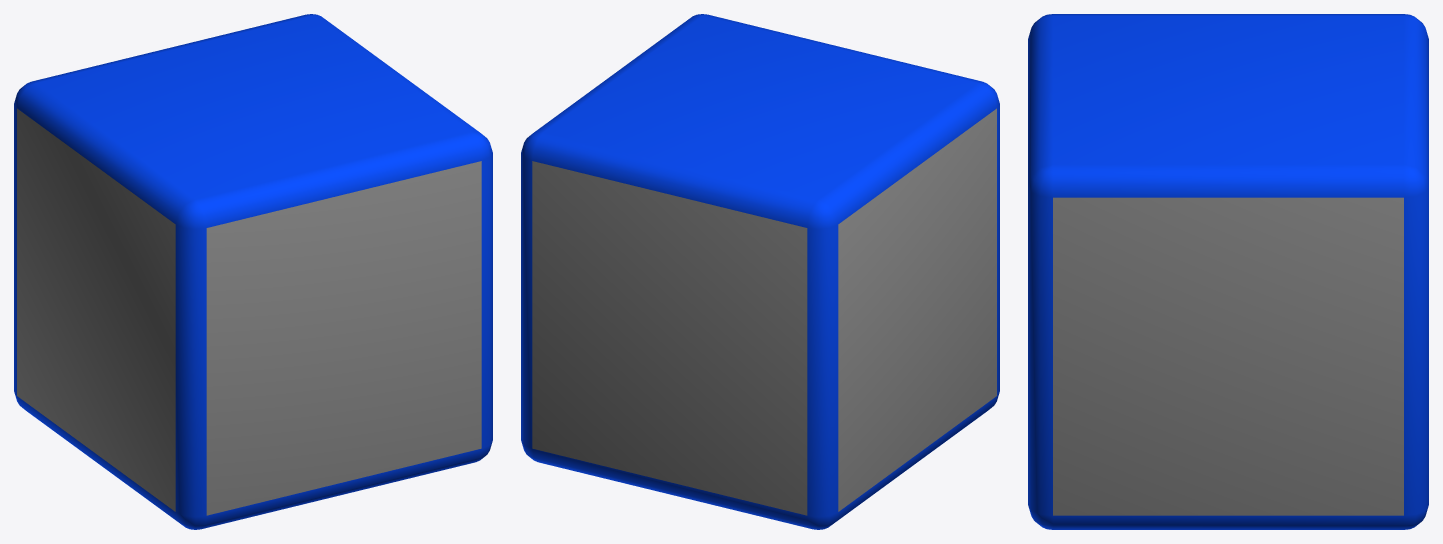
The picture shows the model from 3 angles, left to right: view 1: azimuth 30°, elevation 25°; view 2: azimuth 150°, elevation 25°; view 3: azimuth 270°, elevation 25°; orthographic projection. The views are drawn at different scales.
Parts seen in each view (by area): view 1: ChamferBox001; view 2: ChamferBox001; view 3: ChamferBox001.
Part boxes in pixels (x1,y1,x2,y2): ChamferBox001: [14, 14, 492, 529]; ChamferBox001: [521, 14, 999, 529]; ChamferBox001: [1028, 14, 1428, 529].
Bounding box in the file's own units: 32 × 32 × 32.
